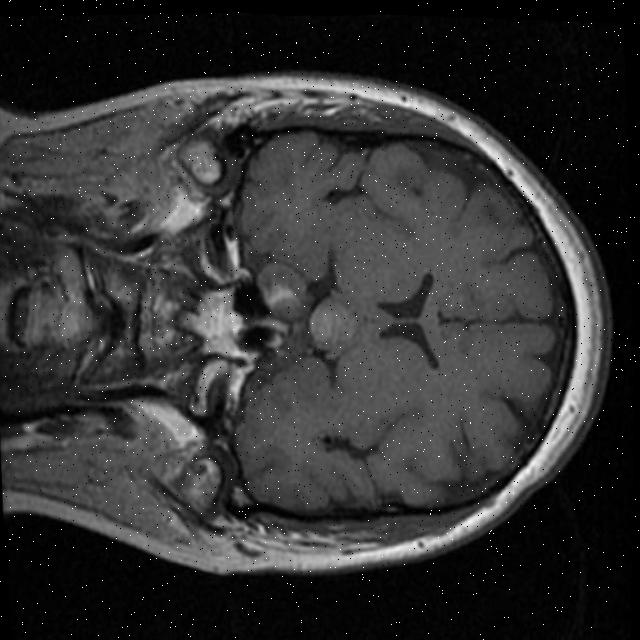Pituitary: (253, 261, 311, 326), (307, 292, 359, 361)
